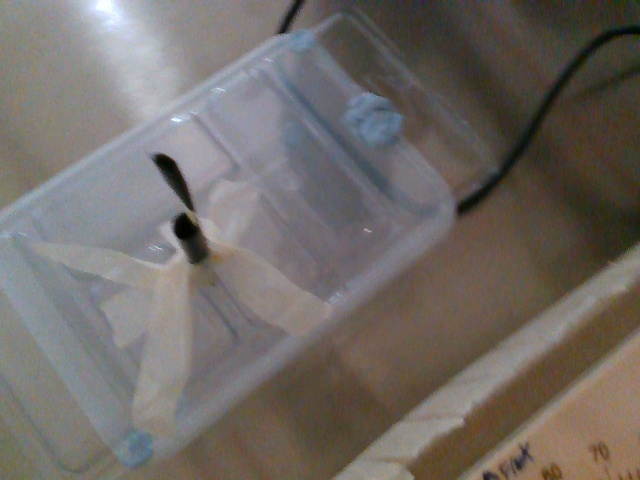test_strip: (148, 152, 198, 225)
